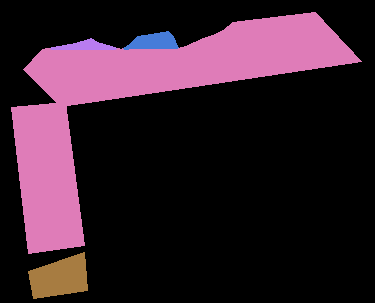parkingspot: (23, 12, 361, 106), (11, 102, 84, 253), (28, 252, 87, 298)
